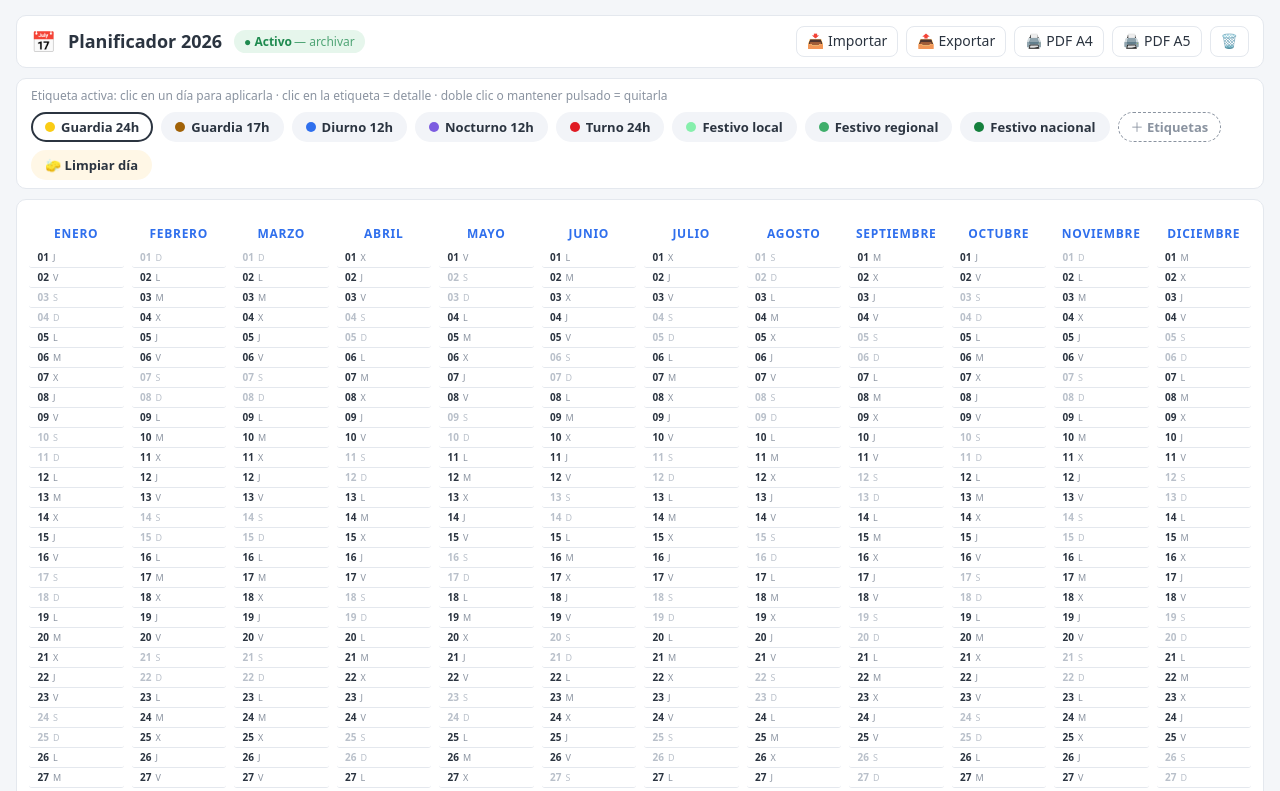
Test: month zoom › opens over the year view and closes with Esc
Click the button with class "month-col__zoom" showing "Enero". click: (76, 234)
box: x1=29 y1=221 x2=124 y2=248
(page scrolled)
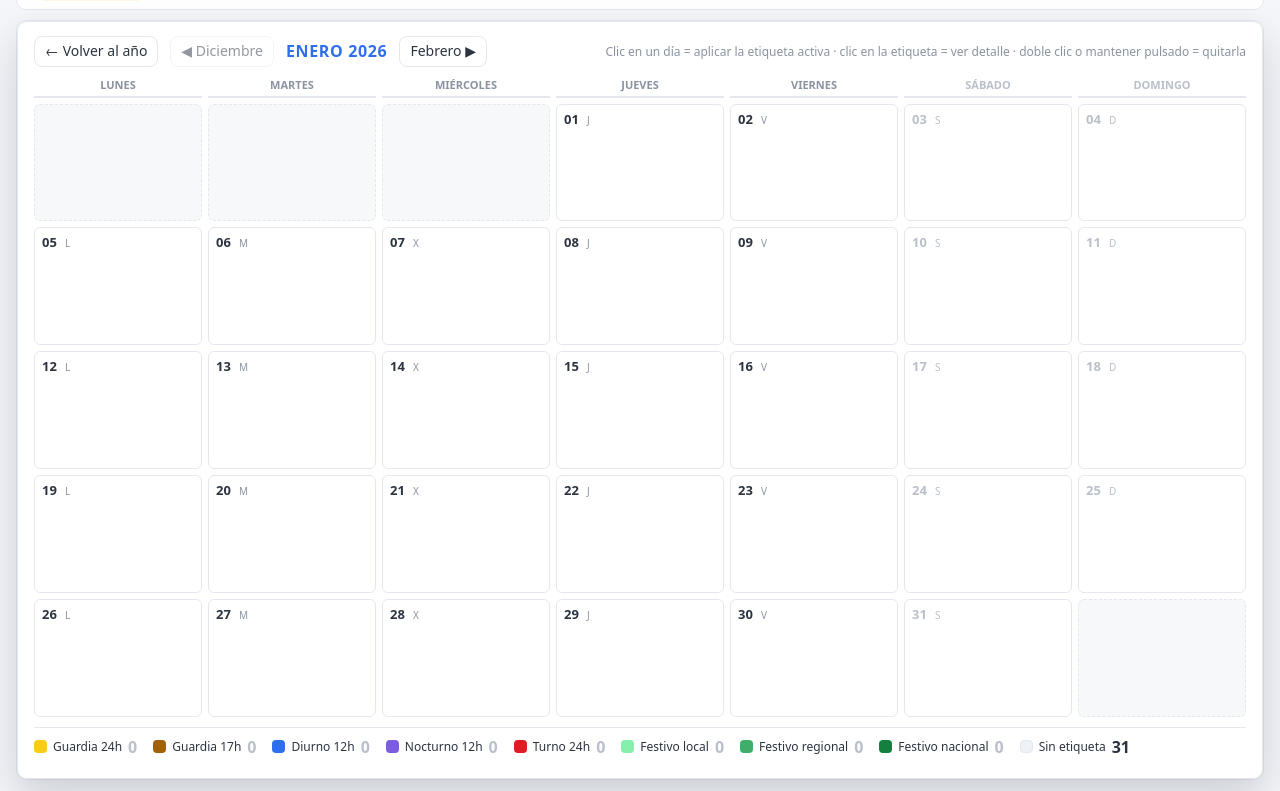
Result: the dialog with class "zoom" is shown
Result: the number of column headings with class "zoom__dow" is 7
Press Escape
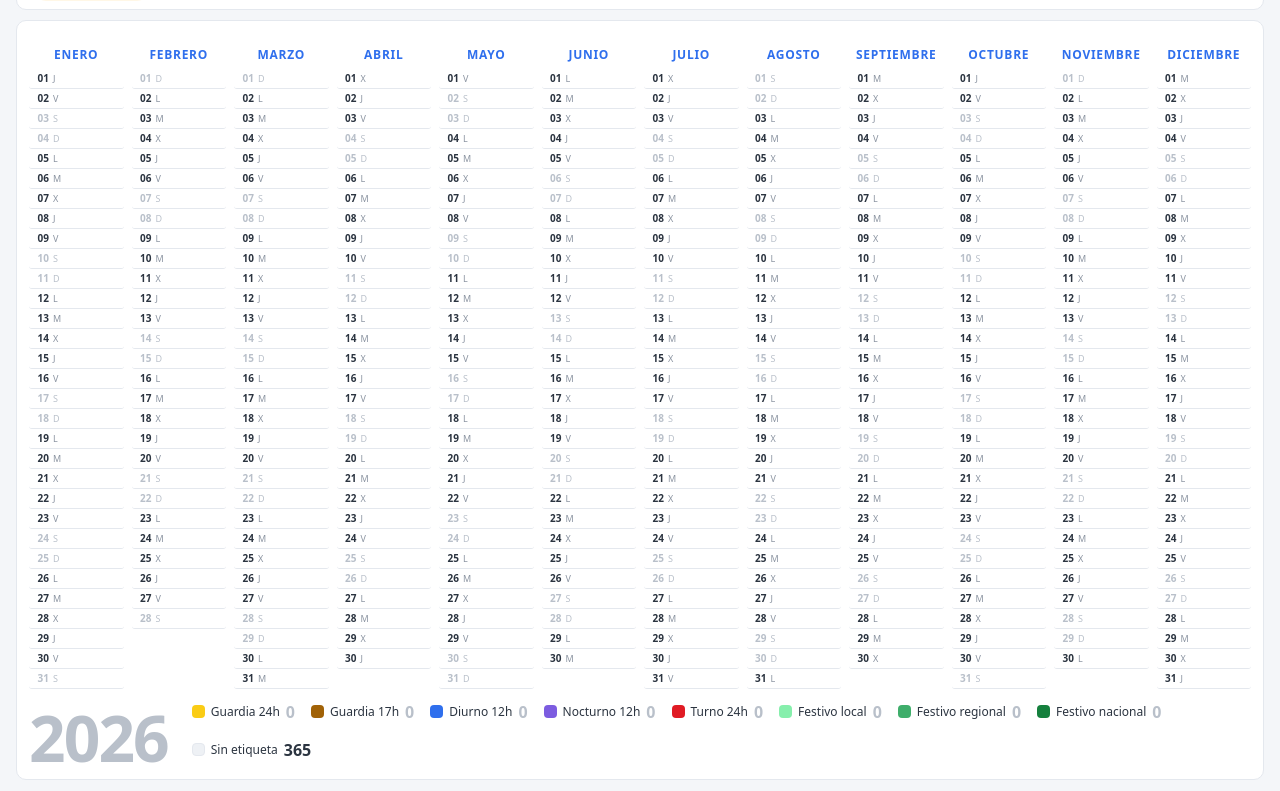
Result: the dialog with class "zoom" is gone
